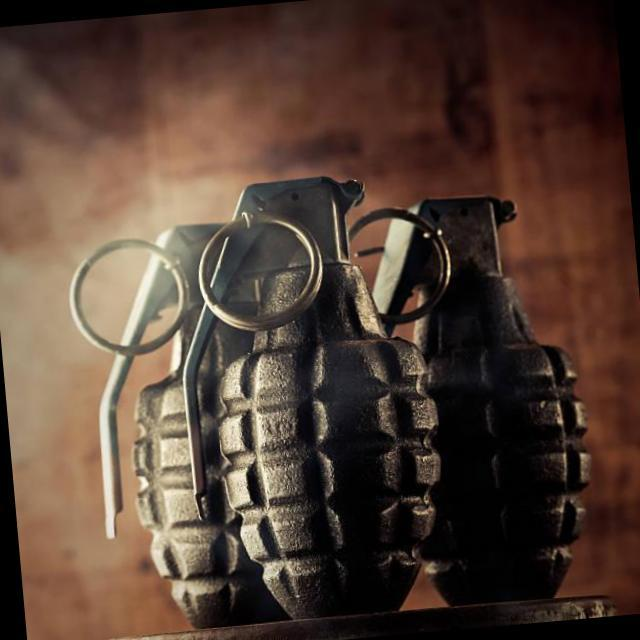grenade: (48, 145, 605, 640)
